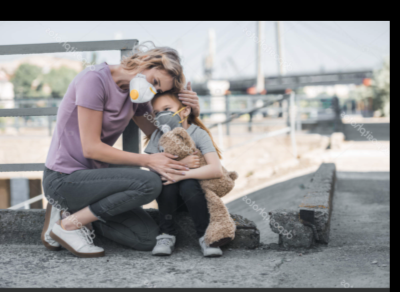with_mask: (127, 71, 163, 102), (151, 103, 183, 134)
